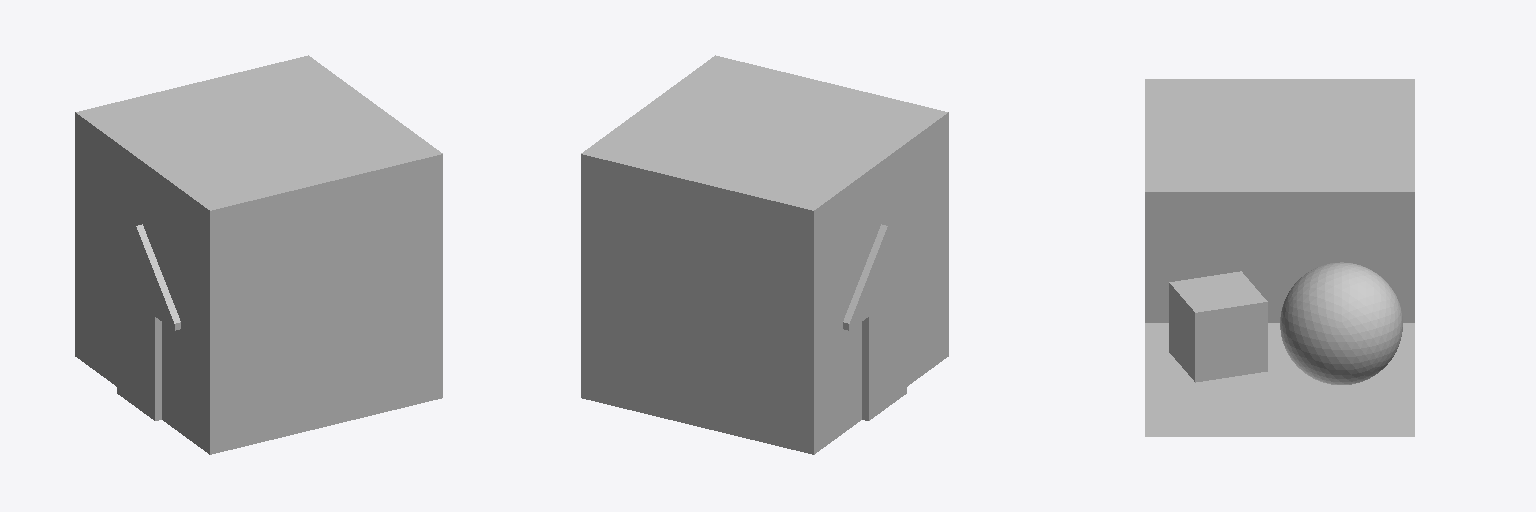
Rendered from Cornell_fake_box.obj.
3 renders of one model, left to right at view 1: azimuth 30°, elevation 25°; view 2: azimuth 150°, elevation 25°; view 3: azimuth 270°, elevation 25°, orthographic.
Visible parts, largest first — view 1: Cube.001_Cube; view 2: Cube.001_Cube; view 3: Cube.001_Cube.
Part boxes in pixels (left/top/right/bottom): Cube.001_Cube: left=75, top=55, right=442, bottom=454; Cube.001_Cube: left=581, top=55, right=948, bottom=454; Cube.001_Cube: left=1145, top=79, right=1414, bottom=436.
Size of the model in its own units: 7.2 by 7 by 7.